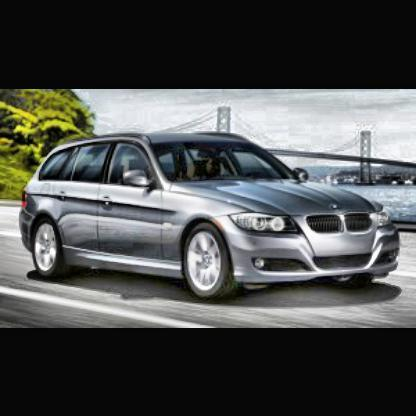BMW 3 Series Wagon 2012: (24, 135, 403, 304)
